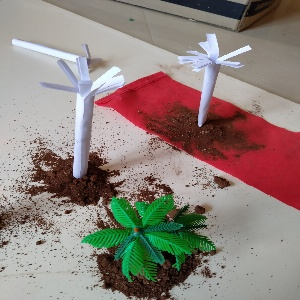plant: (85, 186, 225, 278)
weed: (34, 54, 114, 186), (180, 32, 242, 146)
